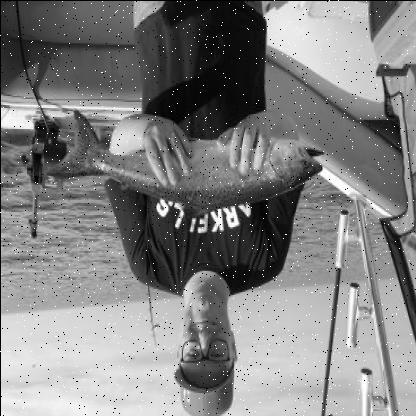fish: (48, 110, 324, 212)
